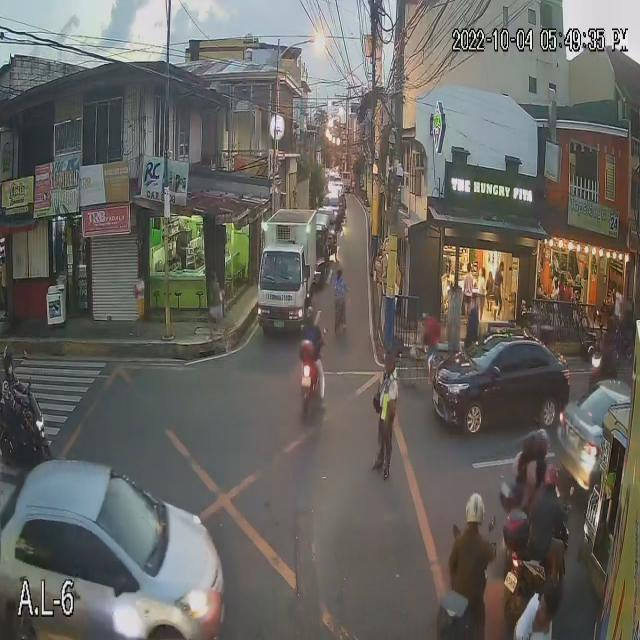helmet: (460, 490, 486, 531), (518, 432, 542, 467), (0, 347, 20, 383), (537, 428, 553, 457), (545, 467, 564, 491), (303, 304, 314, 324)
motorcycle: (506, 520, 571, 619), (0, 389, 52, 466), (442, 580, 491, 640), (296, 351, 328, 407)
rider: (442, 490, 502, 585), (530, 466, 569, 548), (0, 329, 34, 423), (510, 428, 540, 505), (525, 423, 551, 490), (297, 305, 324, 364)
